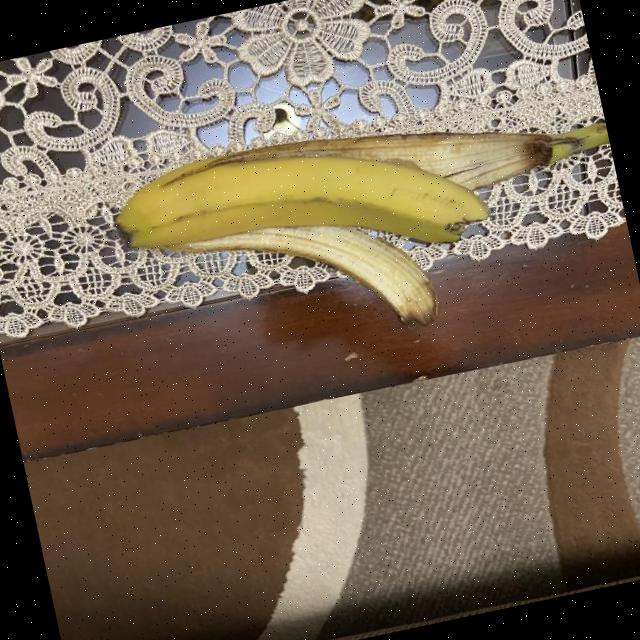banana-peel: (103, 72, 636, 385), (105, 101, 494, 311), (160, 190, 442, 377)
